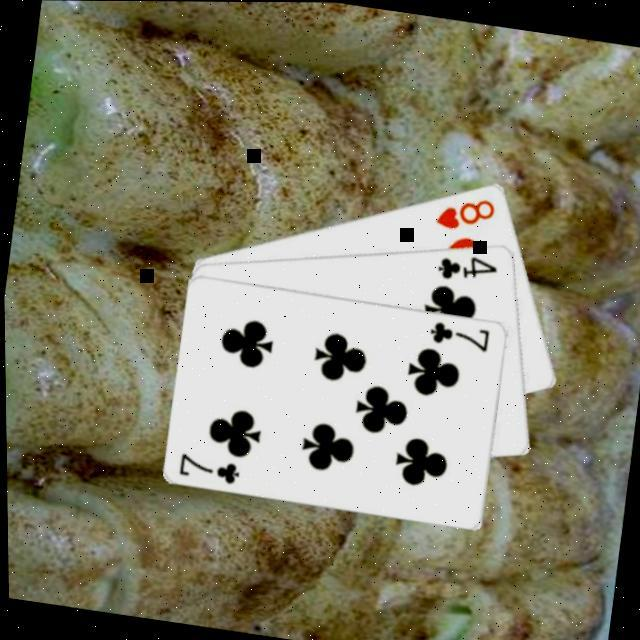4C: (434, 246, 504, 286)
7C: (176, 448, 246, 486), (428, 314, 496, 352)
8H: (432, 186, 502, 236)
